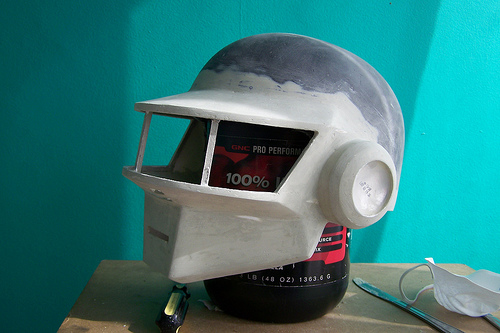helmet: (157, 37, 401, 266)
